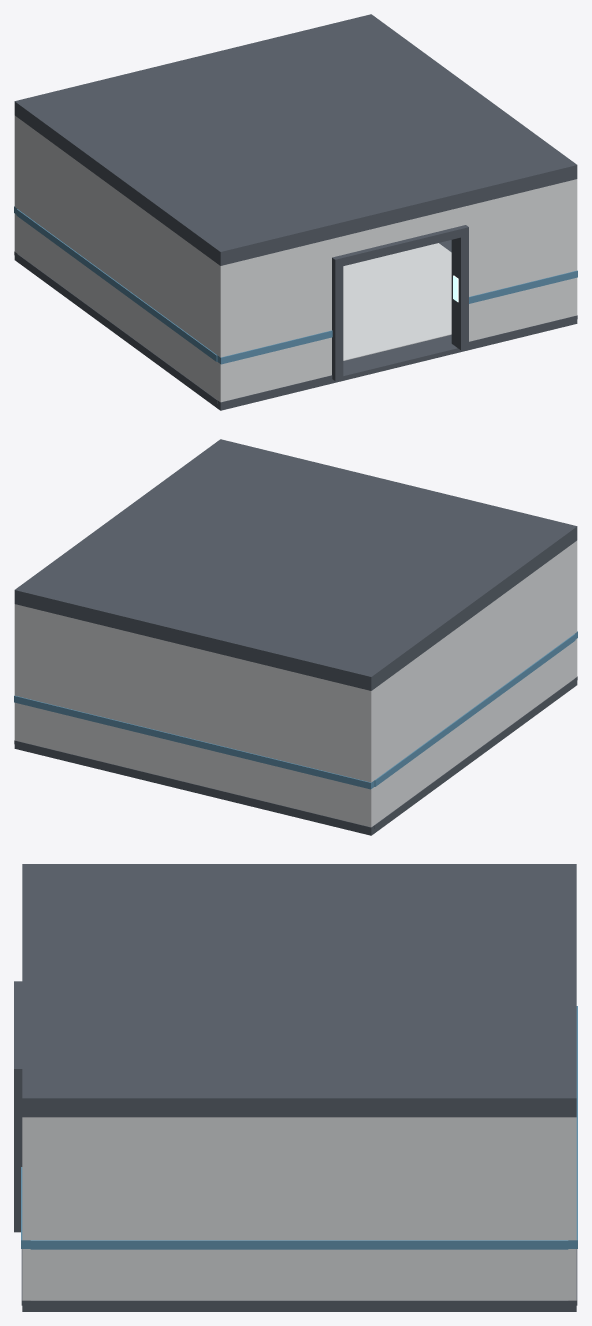
File: spaceship-deck-kit-room-shell-8x8-294c681d__12562.glb
The picture shows the model from 3 angles, top to bottom: view 1: azimuth 30°, elevation 25°; view 2: azimuth 150°, elevation 25°; view 3: azimuth 270°, elevation 25°; orthographic projection. The views are drawn at different scales.
Visible parts, largest first — view 1: room-shell-8x8; view 2: room-shell-8x8; view 3: room-shell-8x8.
Boxes of the visible parts, bbox=[...] form: room-shell-8x8: bbox=[14, 14, 577, 410]; room-shell-8x8: bbox=[14, 439, 577, 835]; room-shell-8x8: bbox=[14, 864, 577, 1311].
Bounding box in the file's own units: 8.04 × 3.4 × 8.14.
